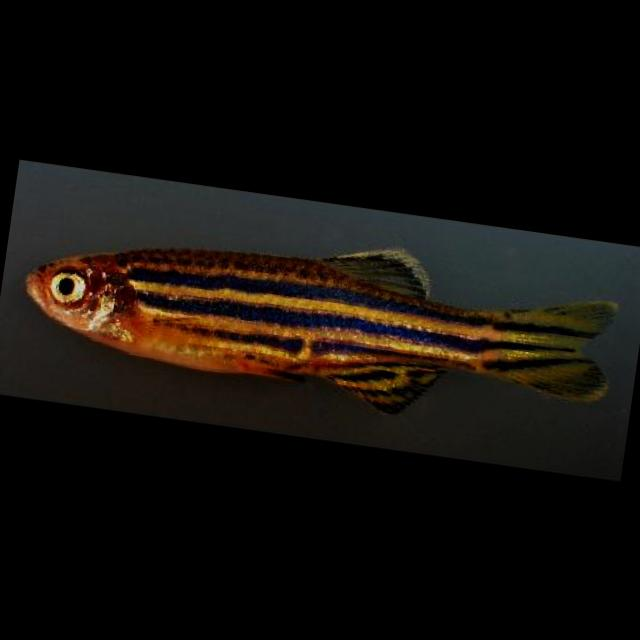ZebraFish: (14, 194, 622, 439)
